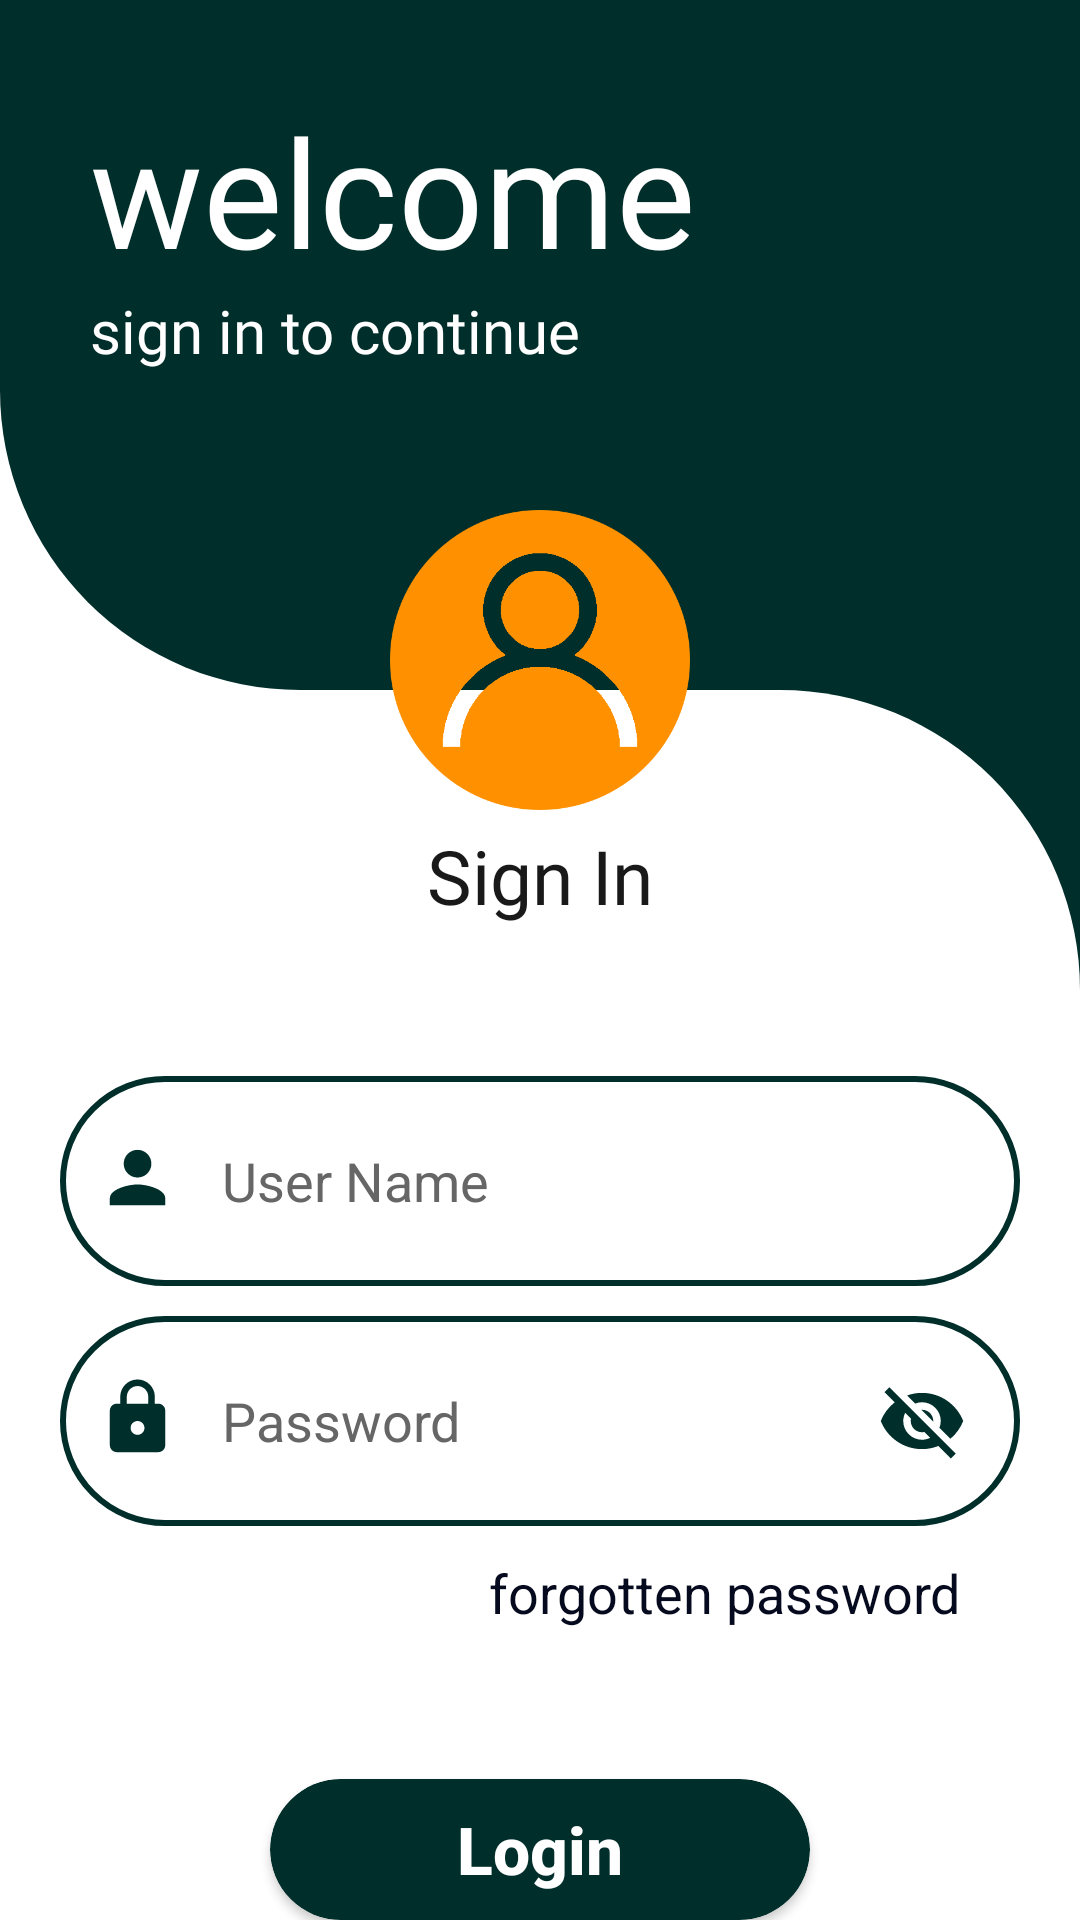

Screen size 1080*1920. Icon name, then its box in pixels as (x1, y1, x2, y2):
togglenn: (881, 1387, 963, 1459)
